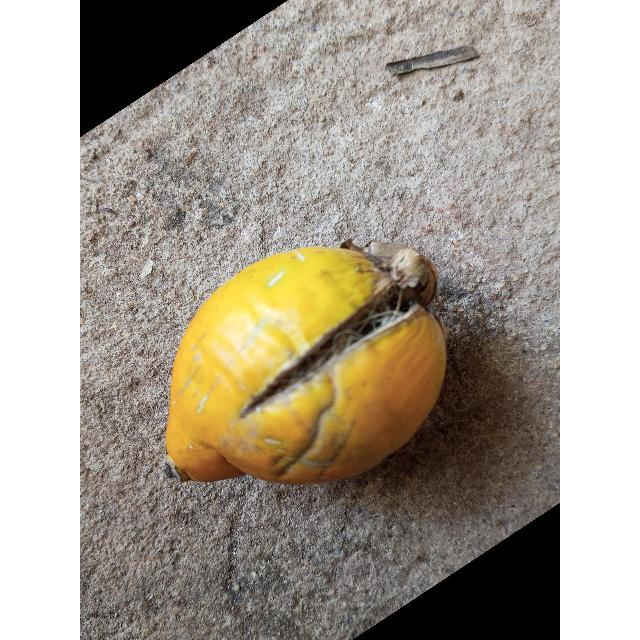damaged: (165, 242, 447, 488)
